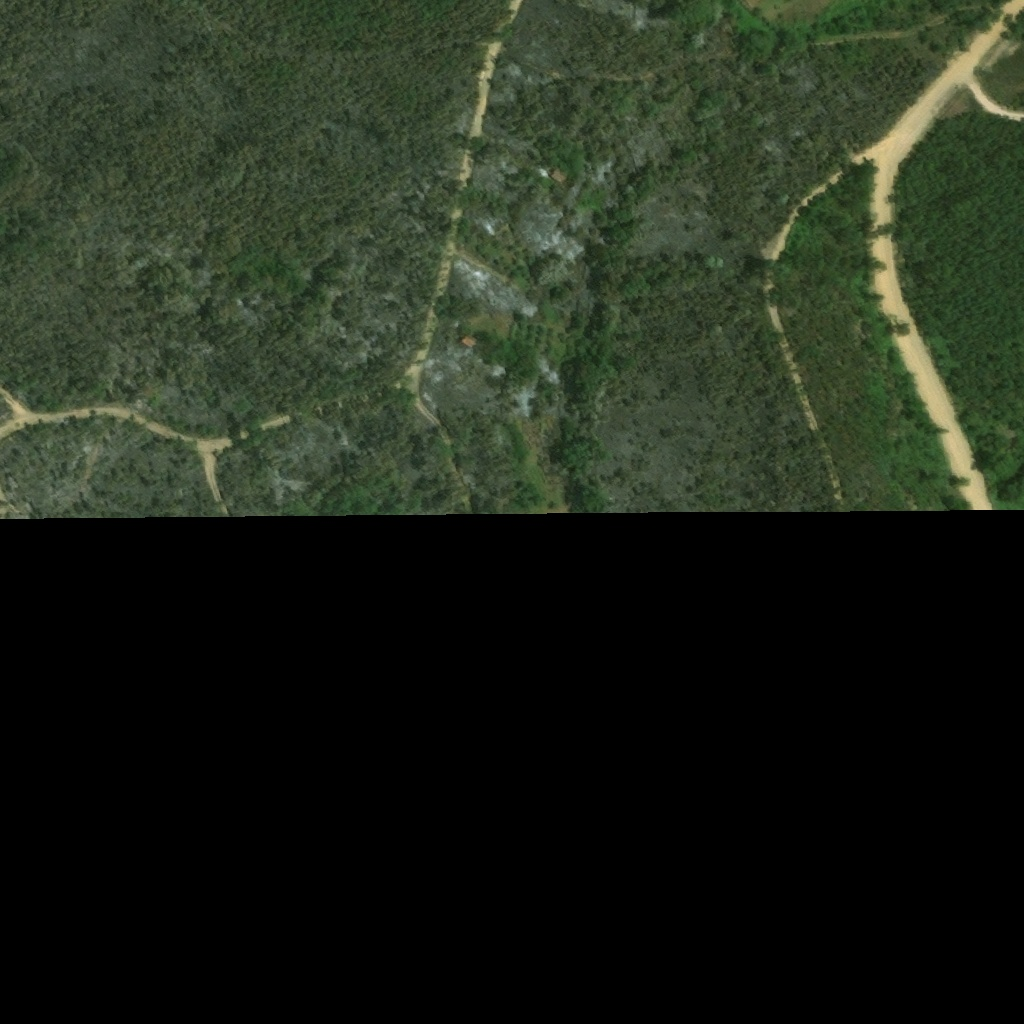0 no-damage: (550, 168, 567, 183), (461, 335, 477, 349)
